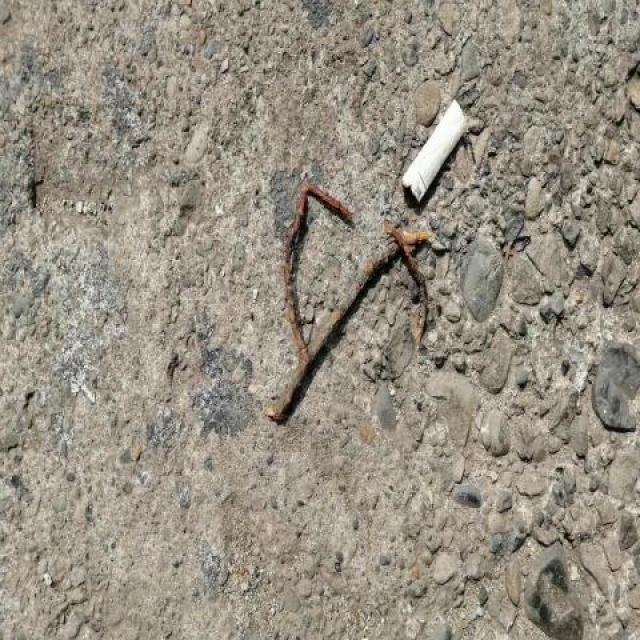non-organic waste: (397, 94, 472, 214)
